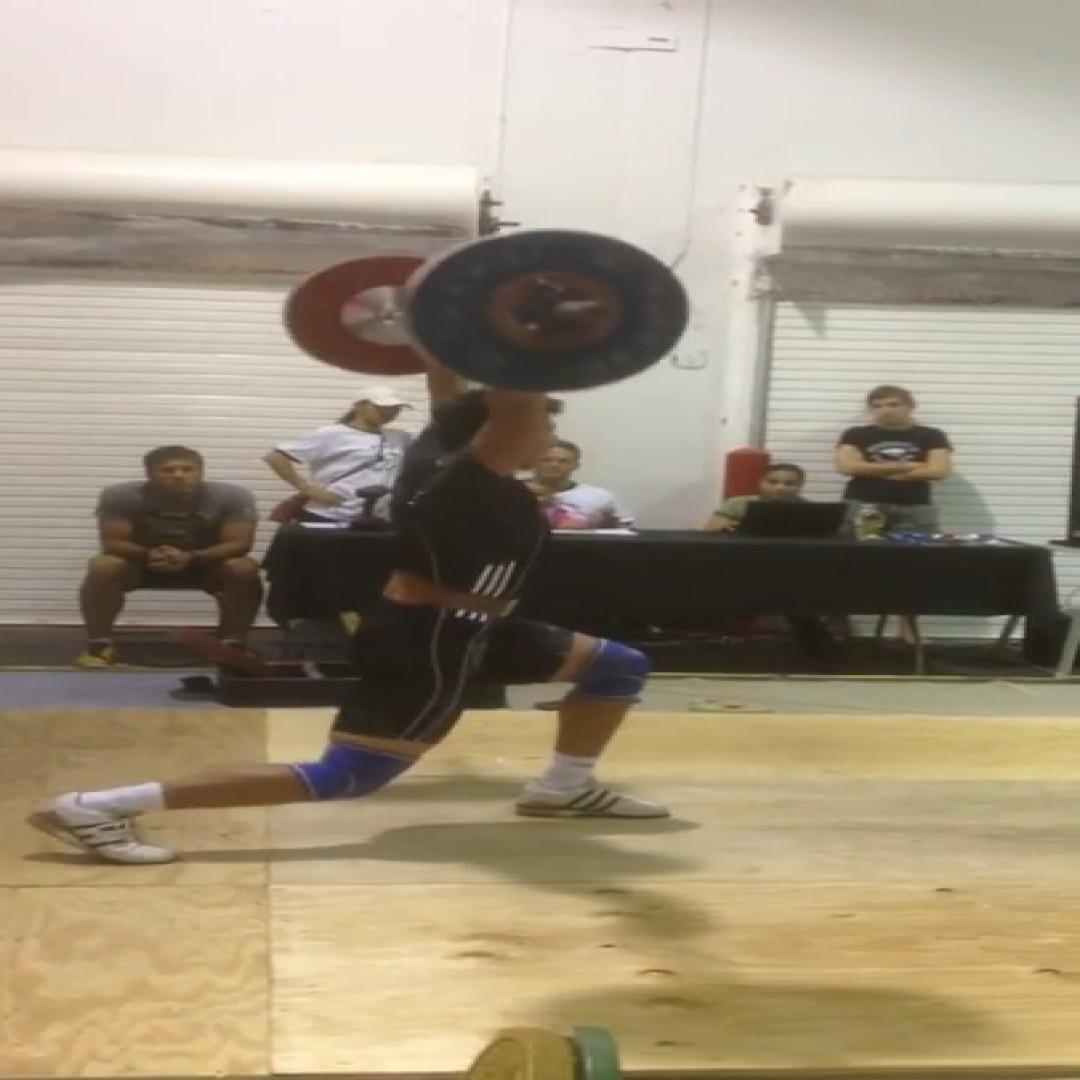Bar: (577, 300, 609, 321)
Barbell: (410, 229, 689, 388)
